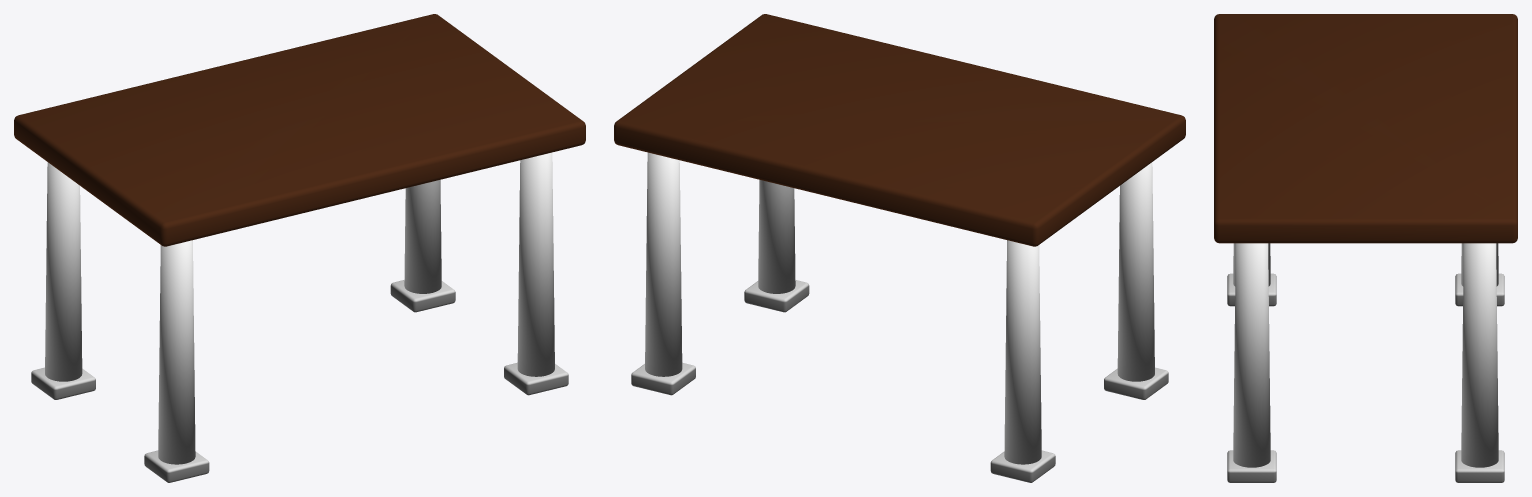
File: wooden-table.obj
The picture shows the model from 3 angles, left to right: view 1: azimuth 30°, elevation 25°; view 2: azimuth 150°, elevation 25°; view 3: azimuth 270°, elevation 25°; orthographic projection.
Visible parts, largest first — view 1: wooden-table; view 2: wooden-table; view 3: wooden-table.
Part boxes in pixels (x1,y1,x2,y2): wooden-table: (14,14,585,482); wooden-table: (614,14,1185,482); wooden-table: (1214,14,1517,482).
Bounding box in the file's own units: 1.3 × 0.78 × 0.8.
